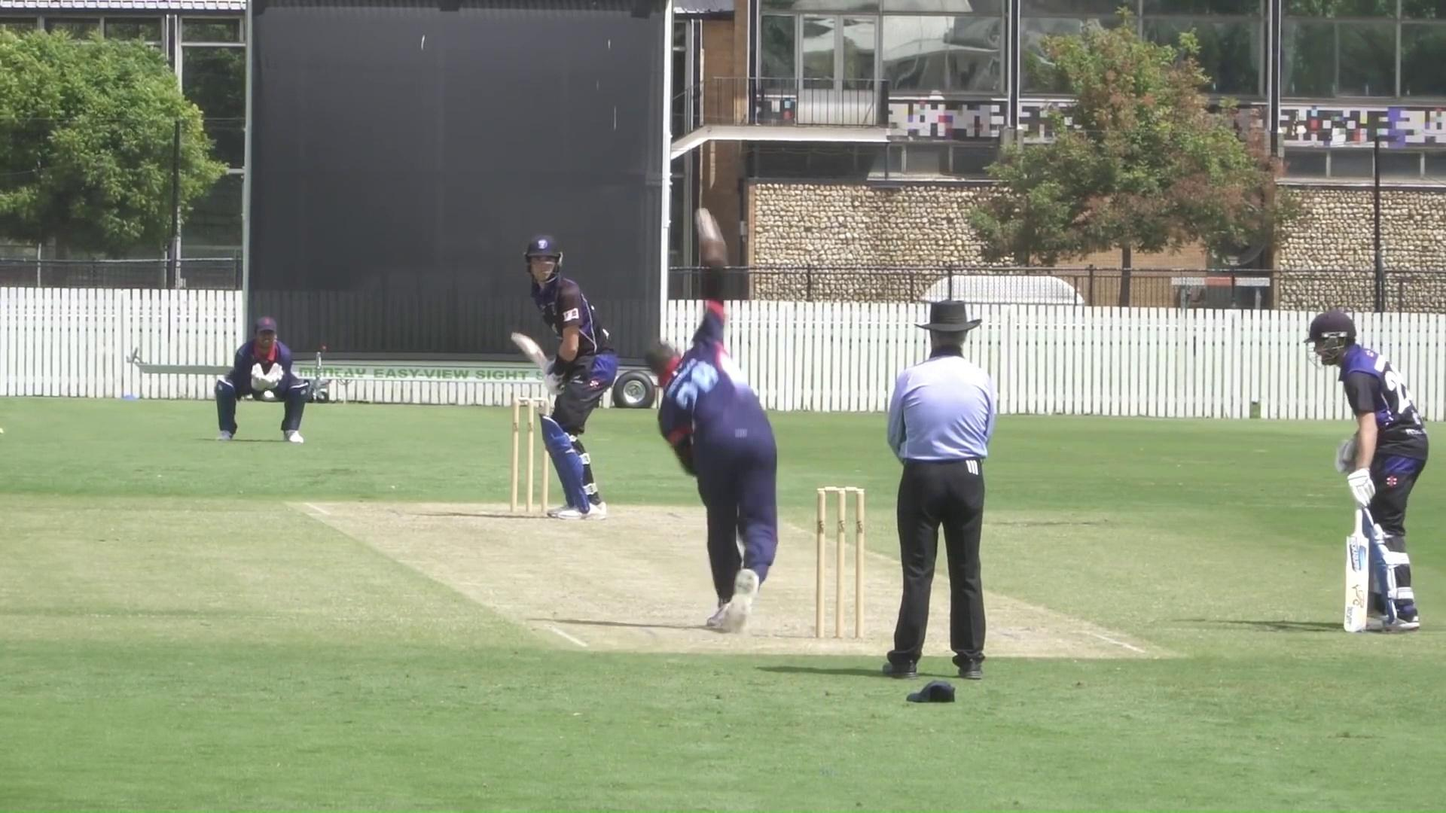ball: (685, 207, 728, 247)
